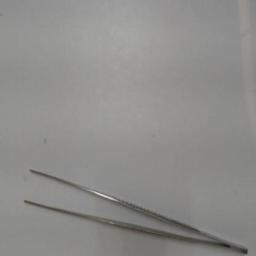DeBakey Dissector: (22, 160, 250, 254)
